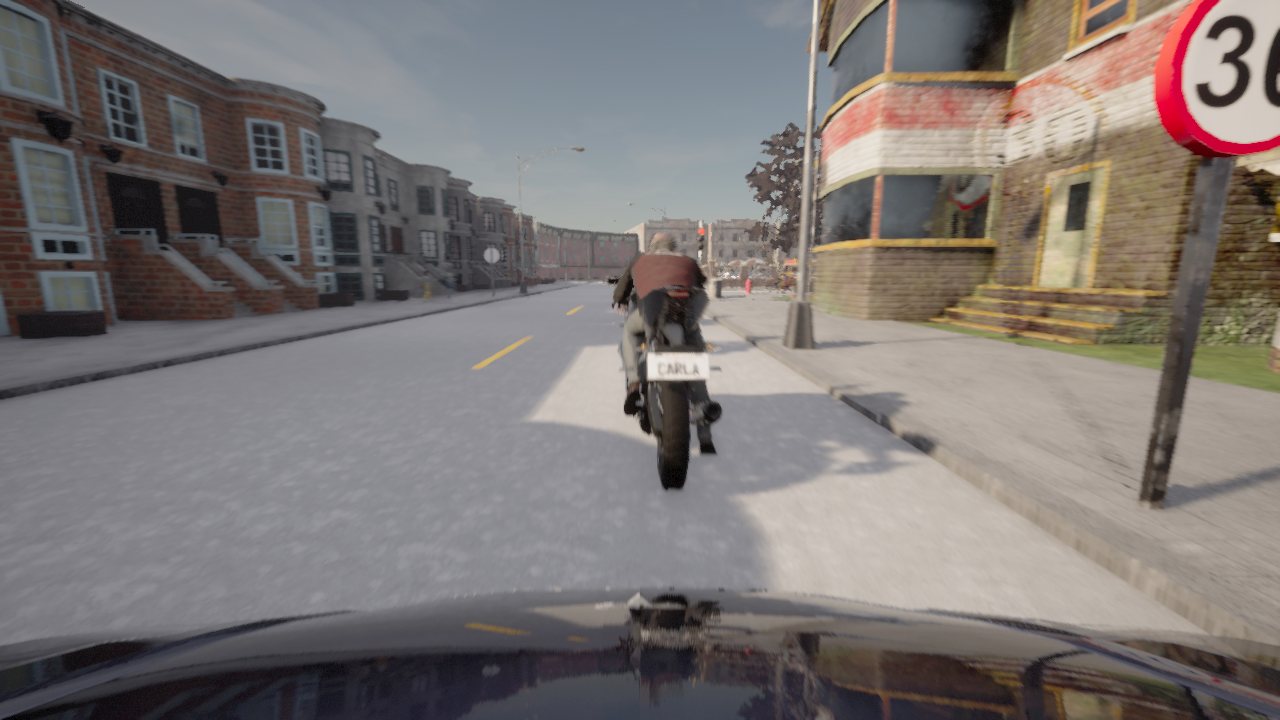cyclist: (0, 588, 1279, 719), (605, 275, 722, 489), (765, 274, 796, 292)
pedestrian: (437, 256, 456, 301), (418, 271, 434, 303)
